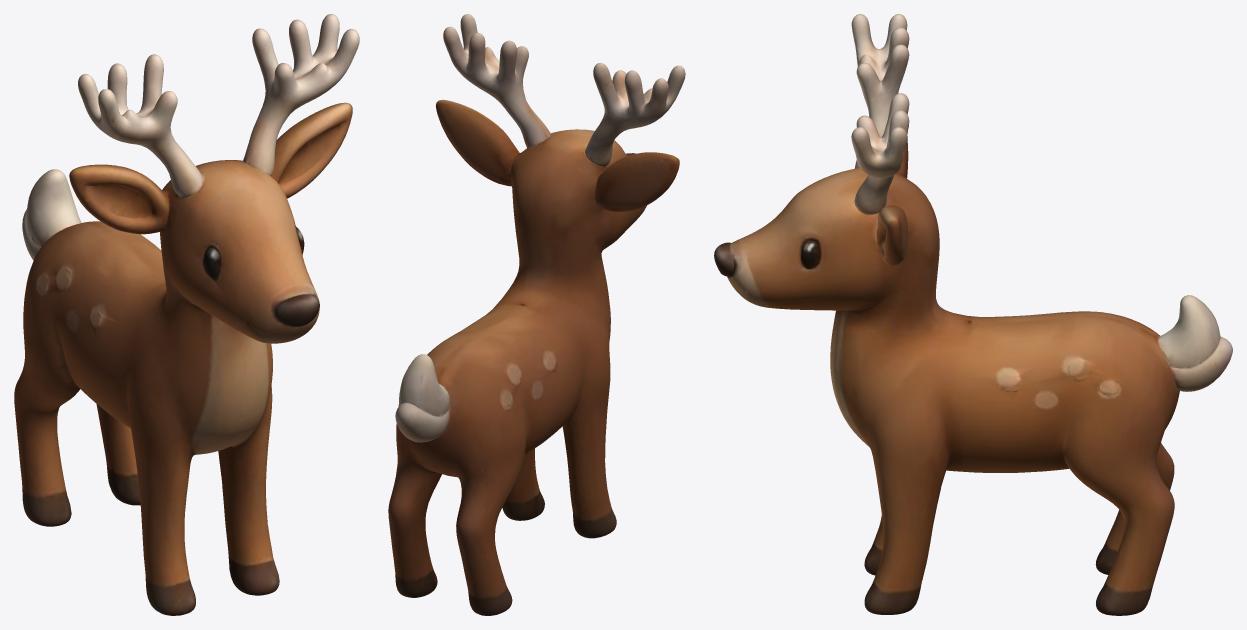
File: deer_pbr.glb
3 views of the same model, side by side, from view 1: azimuth 30°, elevation 25°; view 2: azimuth 150°, elevation 25°; view 3: azimuth 270°, elevation 25° (orthographic). The views are drawn at different scales.
Visible parts, largest first — view 1: model; view 2: model; view 3: model.
Part boxes in pixels (x1=…): model: x1=14, y1=14, x2=359, y2=615; model: x1=388, y1=14, x2=685, y2=615; model: x1=714, y1=14, x2=1232, y2=615.
Bounding box in the file's own units: 0.9843 × 1.84 × 1.66.
Materials: 1 (1 with a texture image).
